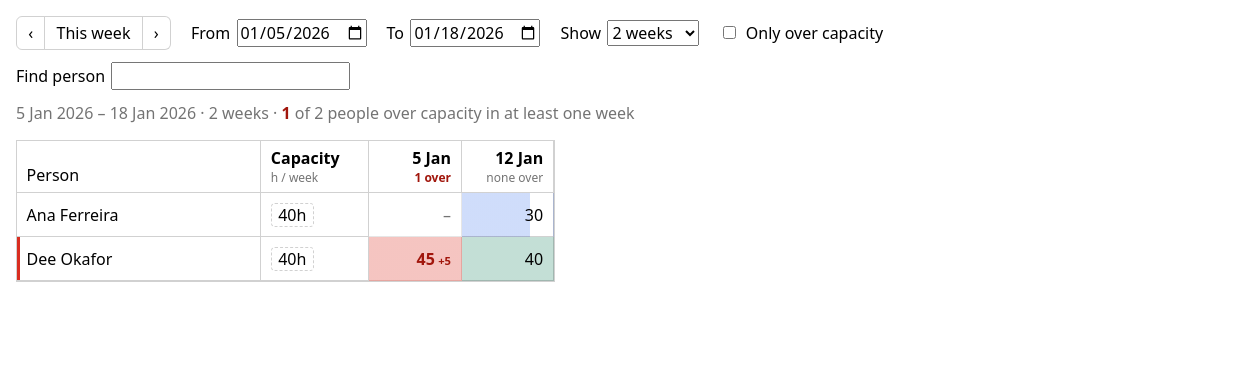
what a failed save says › sends the identical save again when the answer is lost, stores it once, and never says "Not saved"
Expected: the column heading "Dee Okafor" is shown, [17,237,261,281]
Click the button named "Weekly hours for Dee Okafor".
click(292, 259)  # box [271,247,314,271]
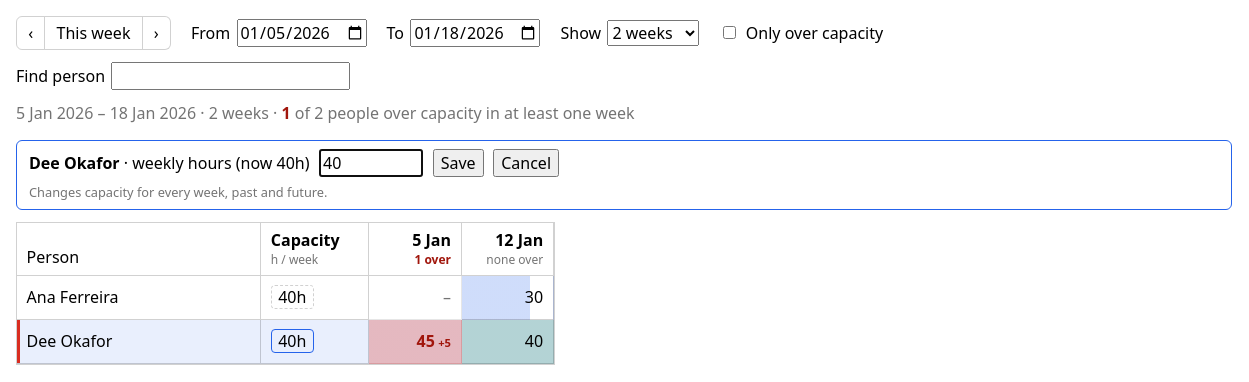
Replace the text in the field named "Weekly hours for Dee Okafor" with "50" at [371, 163], box [319,149,423,177]
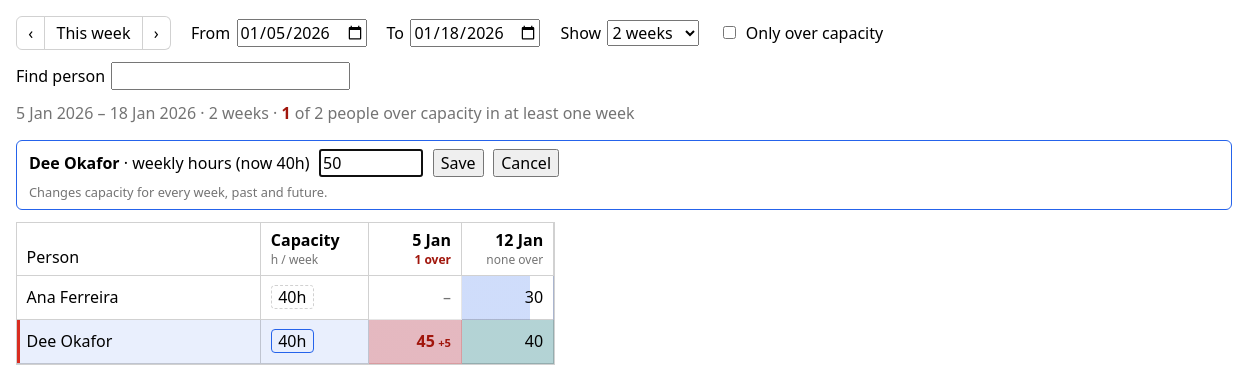
Submit the form named "Weekly hours for Dee Okafor", box [16,140,1232,210]
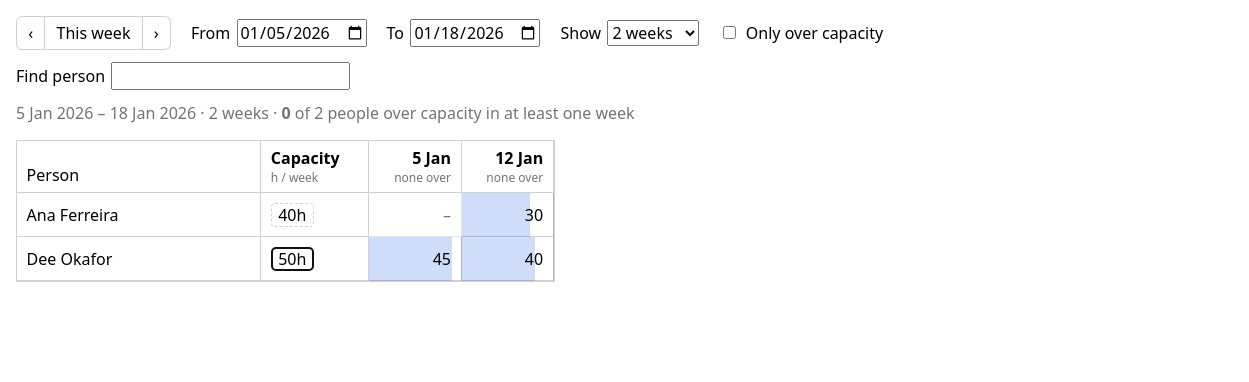
Now the button named "Weekly hours for Dee Okafor" reads "50h", box [271,247,314,271]
